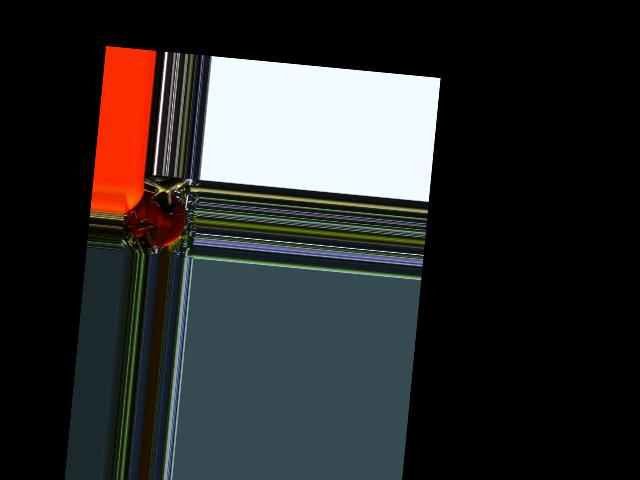tomato: (122, 188, 187, 250)
